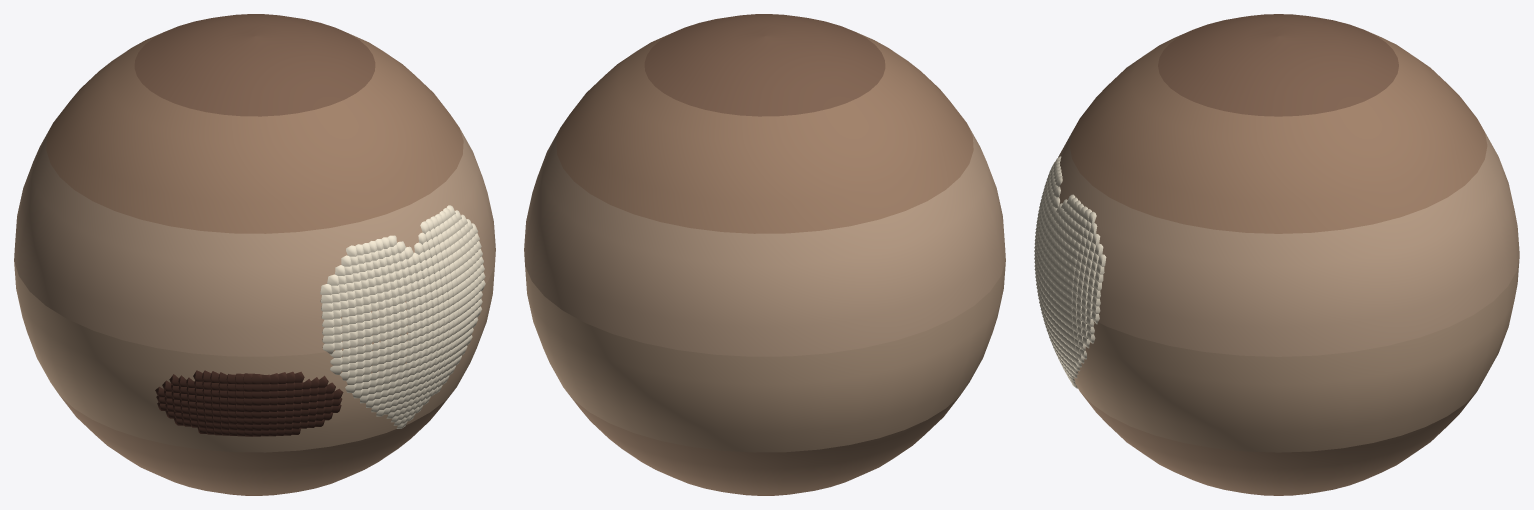
The model's file is plutao.glb.
3 renders of one model, left to right at view 1: azimuth 30°, elevation 25°; view 2: azimuth 150°, elevation 25°; view 3: azimuth 270°, elevation 25°, orthographic.
Parts seen in each view (by area): view 1: plutao; view 2: plutao; view 3: plutao.
Boxes of the visible parts, x1,y1,x2,y2 form: plutao: [14, 14, 495, 495]; plutao: [524, 14, 1005, 495]; plutao: [1034, 14, 1519, 495].
Bounding box in the file's own units: 2 × 2 × 2.01.
